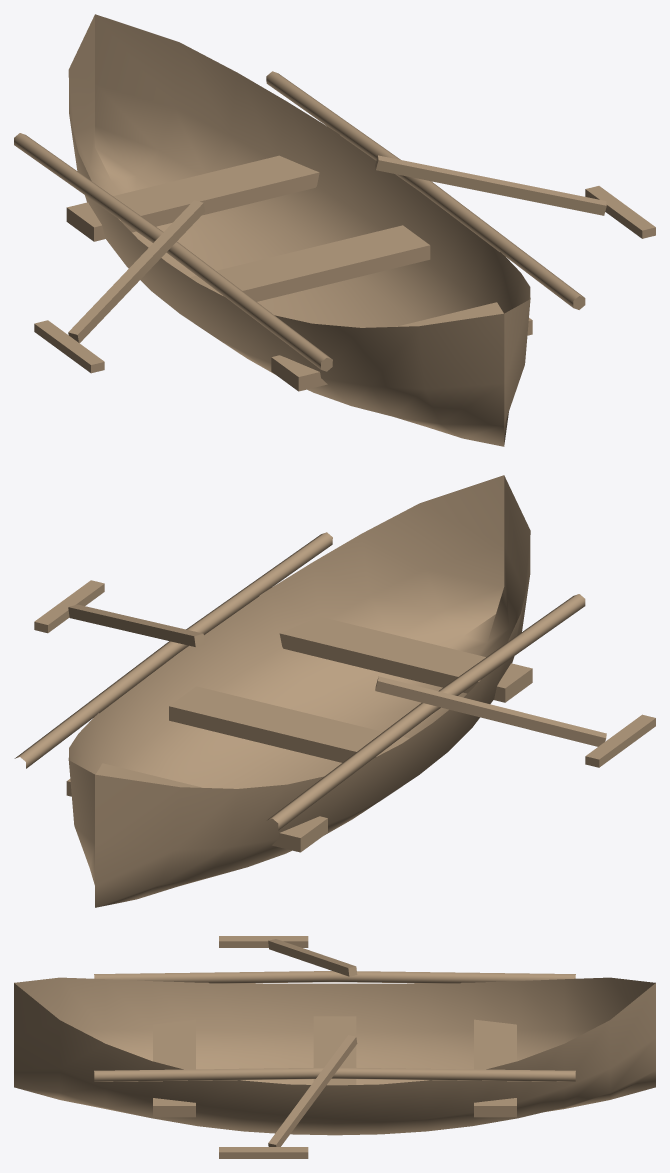
Rendered from boat_sound.glb.
3 views of the same model, one above another, from view 1: azimuth 30°, elevation 25°; view 2: azimuth 150°, elevation 25°; view 3: azimuth 270°, elevation 25° (orthographic). The views are drawn at different scales.
Visible parts, largest first — view 1: Boat; view 2: Boat; view 3: Boat.
Part boxes in pixels (box(x1,y1,x2,y2)): Boat: box(14, 14, 655, 446); Boat: box(14, 475, 655, 907); Boat: box(14, 936, 655, 1158).
Bounding box in the file's own units: 2.87 × 0.8295 × 3.6.
